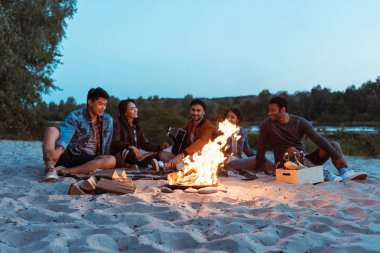fire: (190, 147, 222, 187), (219, 123, 238, 143)
